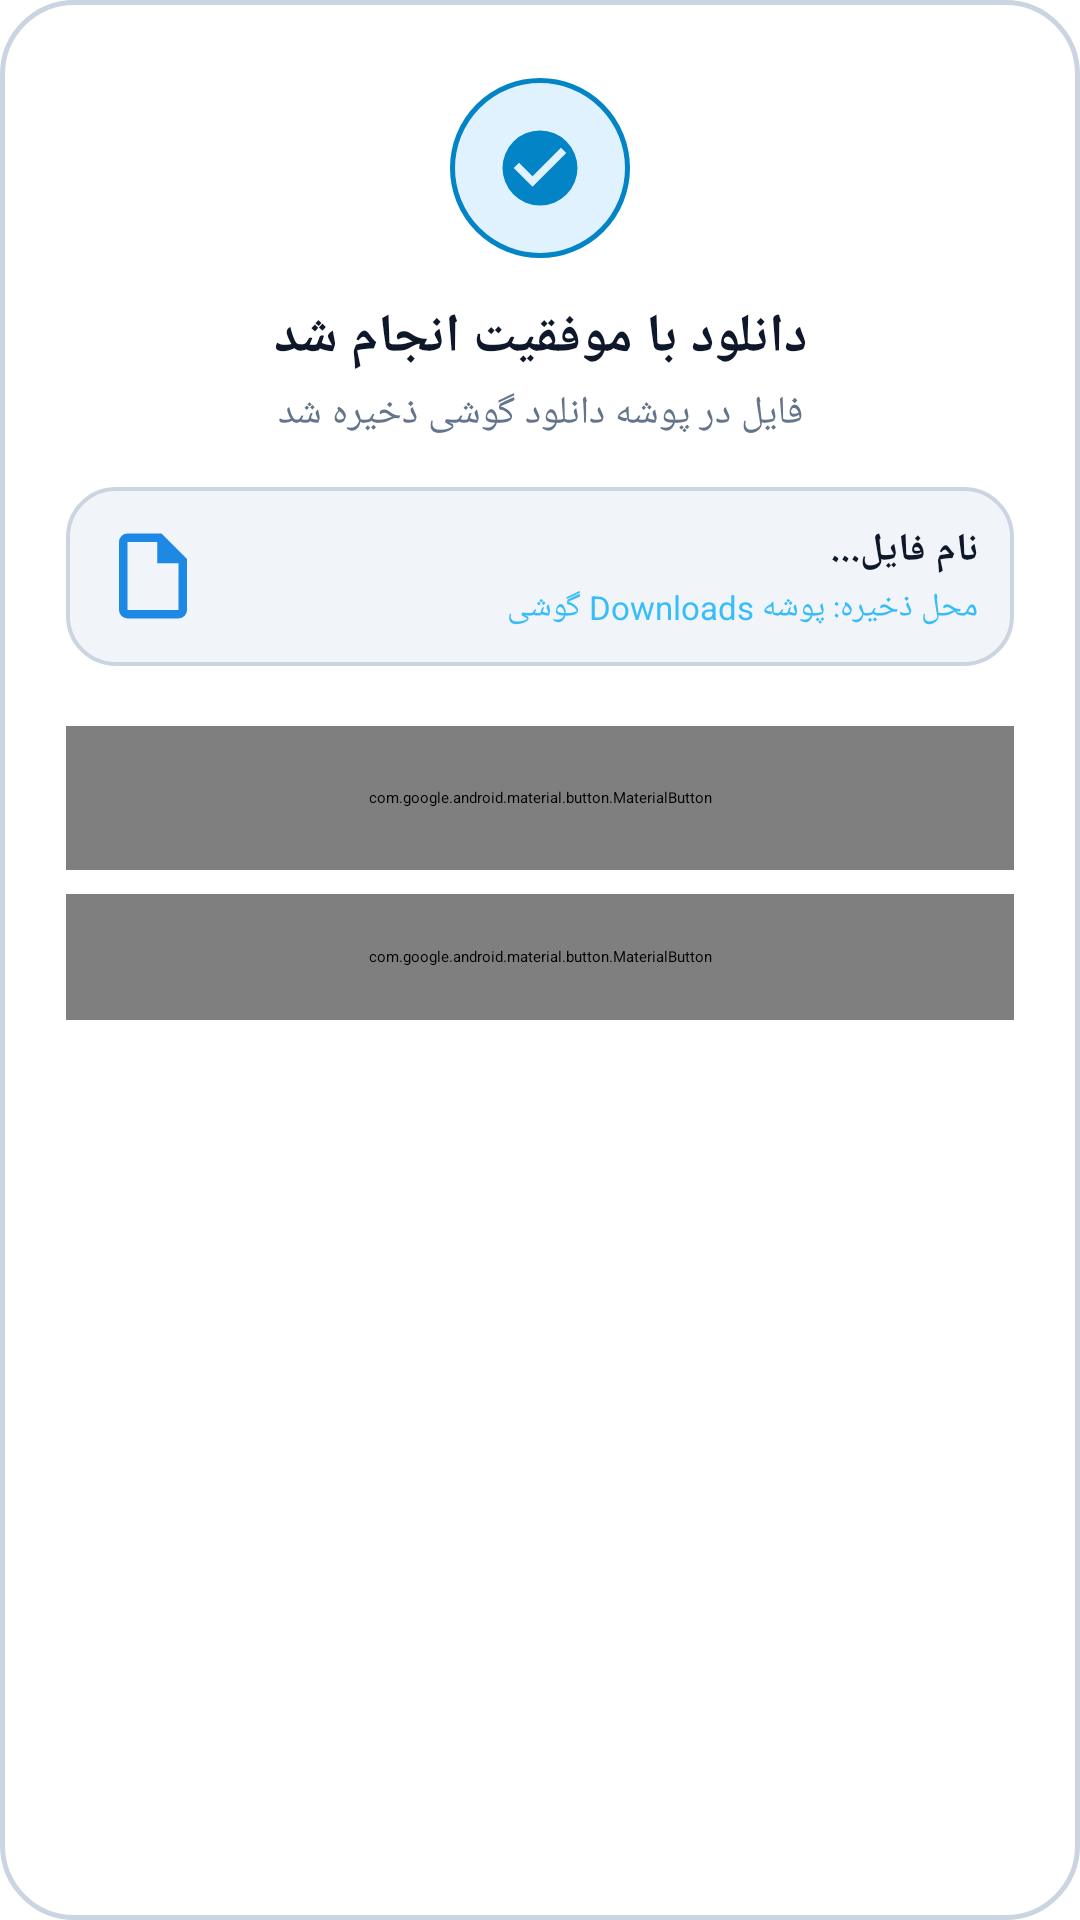

Point at icon controls on the screen. Image size 1080 × 1920, points as (x,y).
check circle: (540,168)
file: (153,576)
